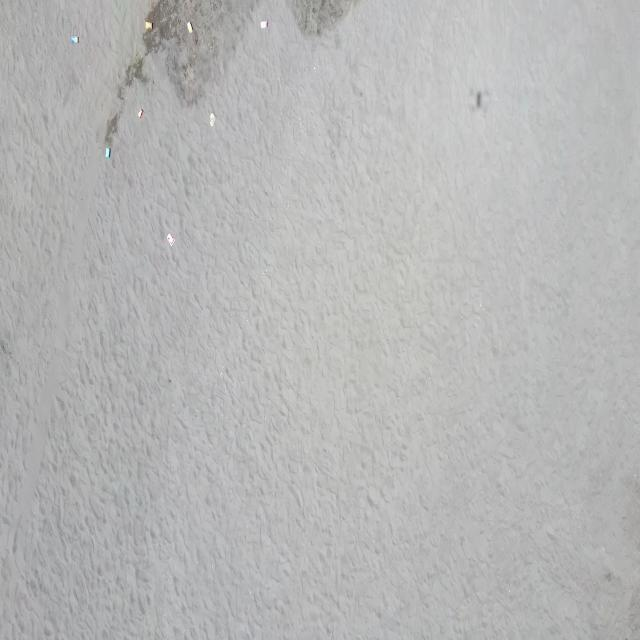Garbage: (208, 111, 215, 125), (136, 108, 143, 118), (104, 147, 110, 158), (187, 20, 192, 32), (144, 20, 150, 30), (167, 233, 172, 244), (260, 20, 267, 27), (71, 35, 77, 43)
